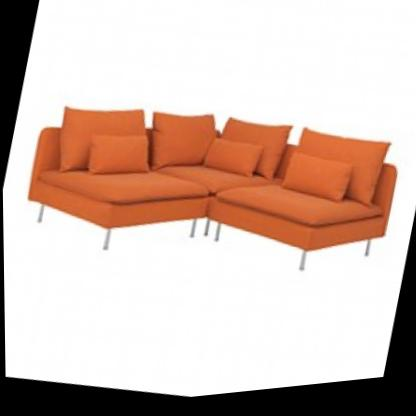Sofa: (4, 29, 416, 338)
